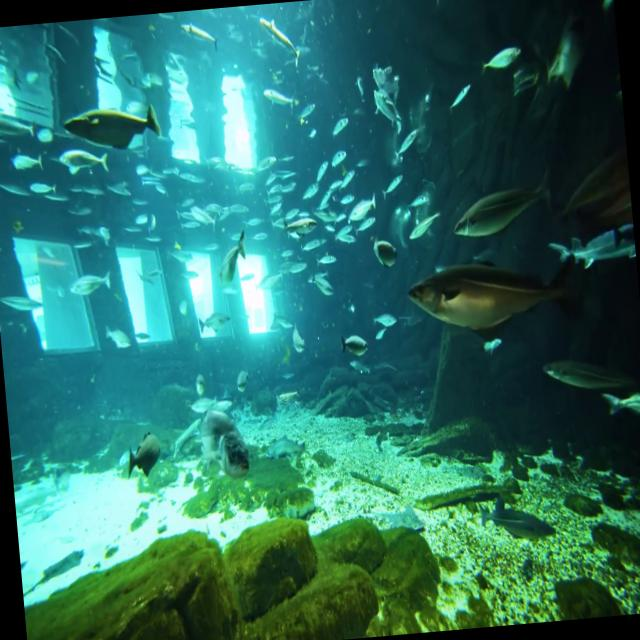fish: (402, 255, 566, 352), (439, 162, 564, 258), (64, 94, 164, 172), (552, 137, 632, 229), (539, 338, 640, 396), (560, 206, 638, 278), (208, 212, 270, 290), (116, 414, 175, 489), (215, 420, 262, 502), (61, 264, 118, 310), (188, 408, 232, 462), (362, 222, 403, 276), (476, 29, 527, 70), (599, 375, 640, 424), (337, 317, 372, 363), (96, 321, 138, 357), (368, 300, 397, 338)
